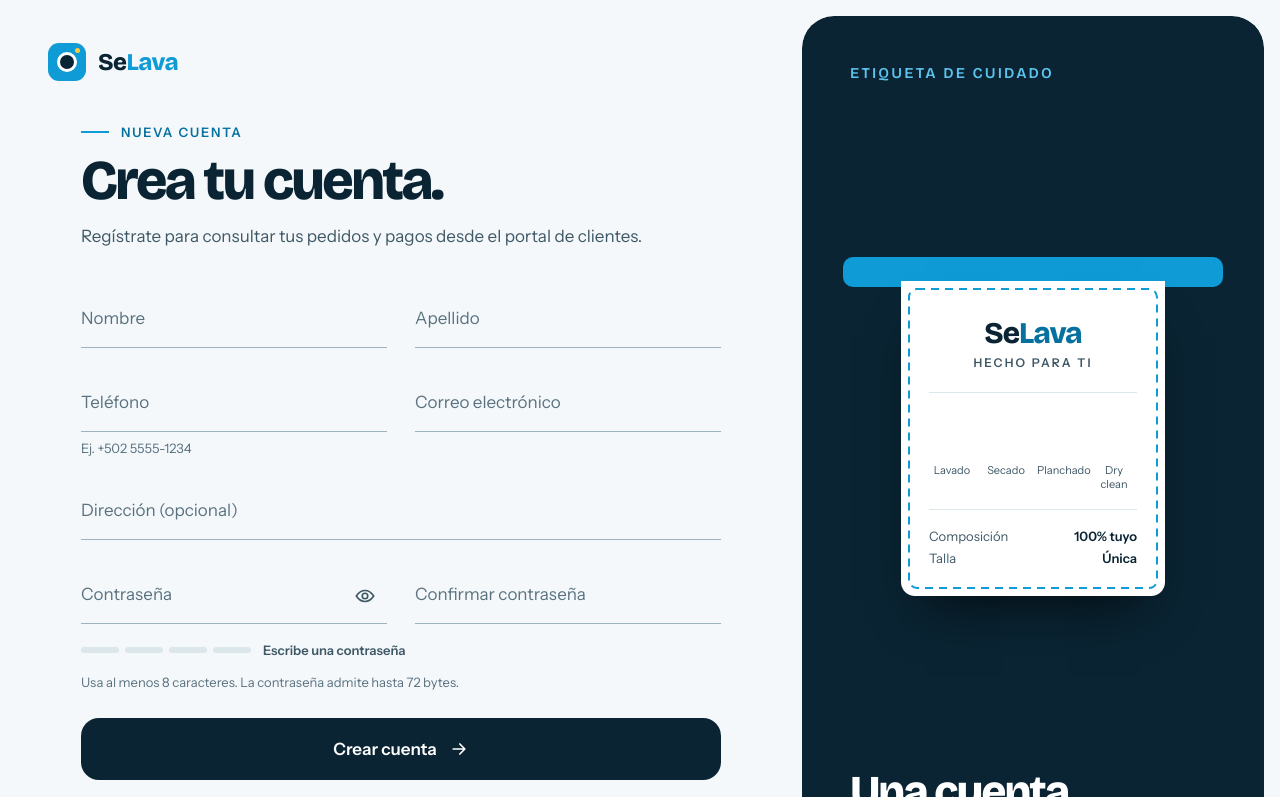
Scenario: autenticación de clientes › muestra los errores de duplicado devueltos por el backend
The width and height of the screenshot is (1280, 797).
Step 1. Type "Ana" into the field labelled "Nombre" → (234, 317), box x1=81 y1=286 x2=387 y2=348
Step 2. Type "López" into the field labelled "Apellido" → (568, 317), box x1=415 y1=286 x2=721 y2=348
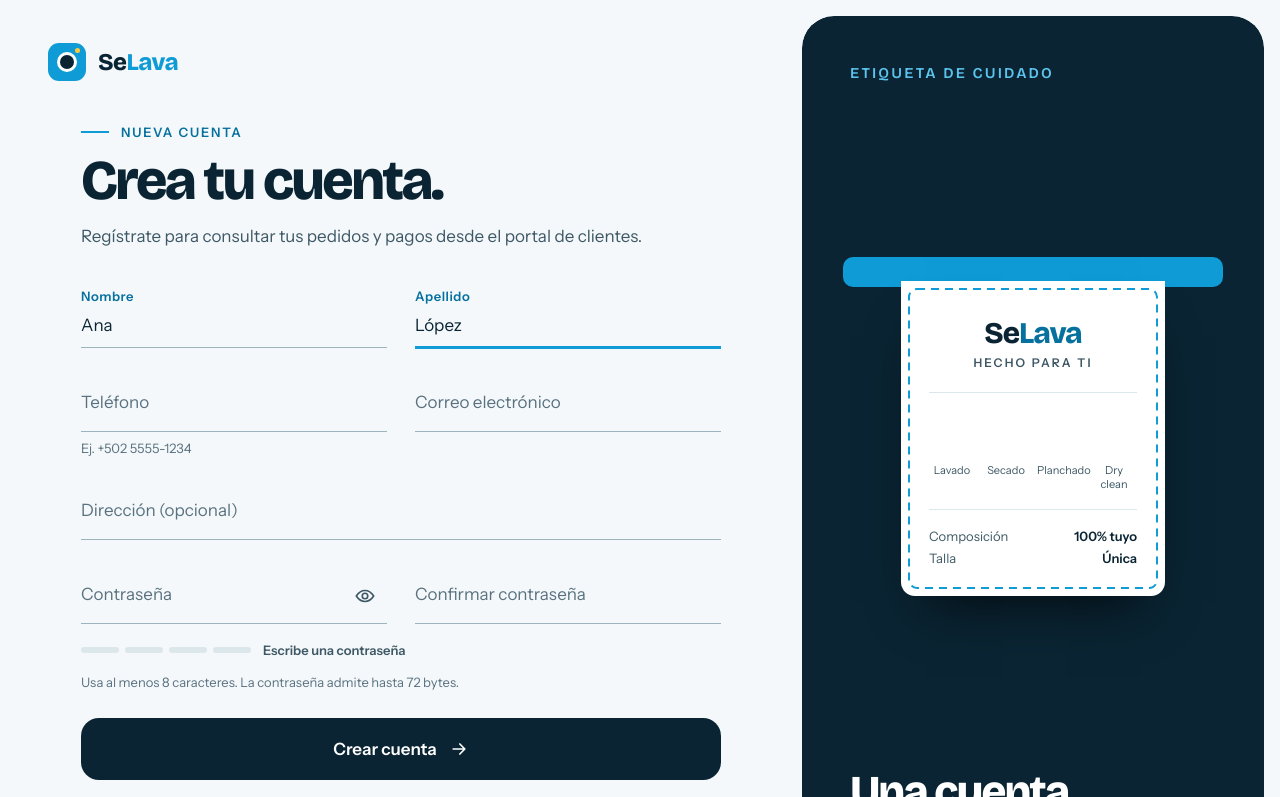
Step 3. Type "5555-1234" into the field labelled "Teléfono" → (234, 401), box x1=81 y1=370 x2=387 y2=432
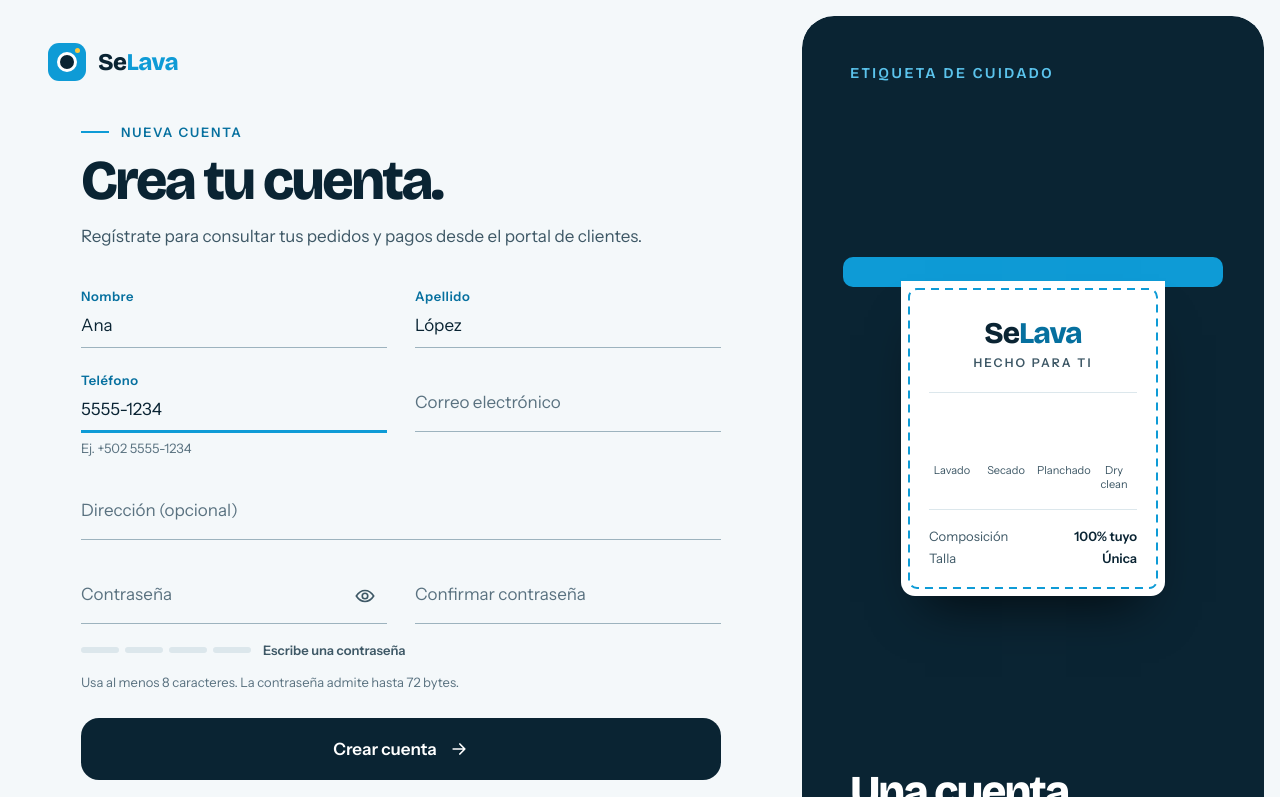
Step 4. Type "ana@example.com" into the field labelled "Correo electrónico" → (568, 401), box x1=415 y1=370 x2=721 y2=432
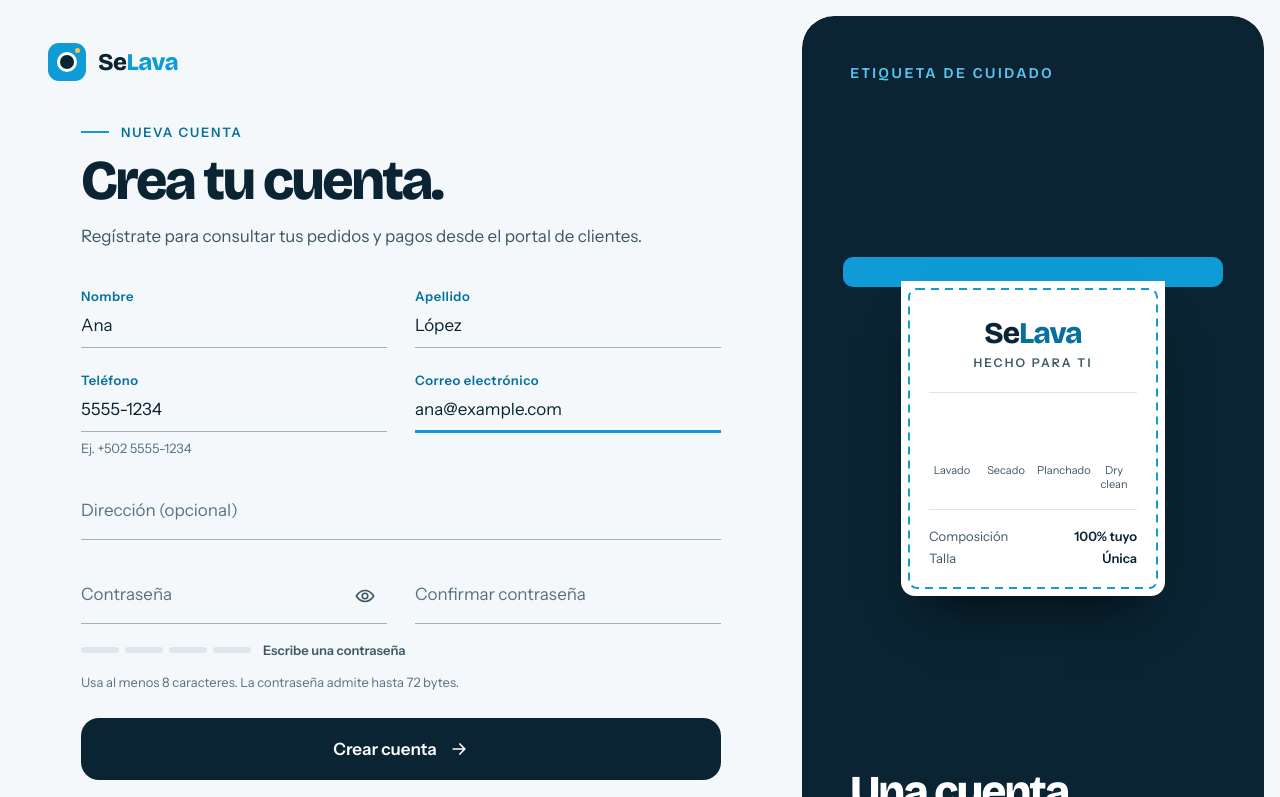
Step 5. Type "secreto-seguro" into the password field labelled "Contraseña" → (234, 593), box x1=81 y1=562 x2=387 y2=624
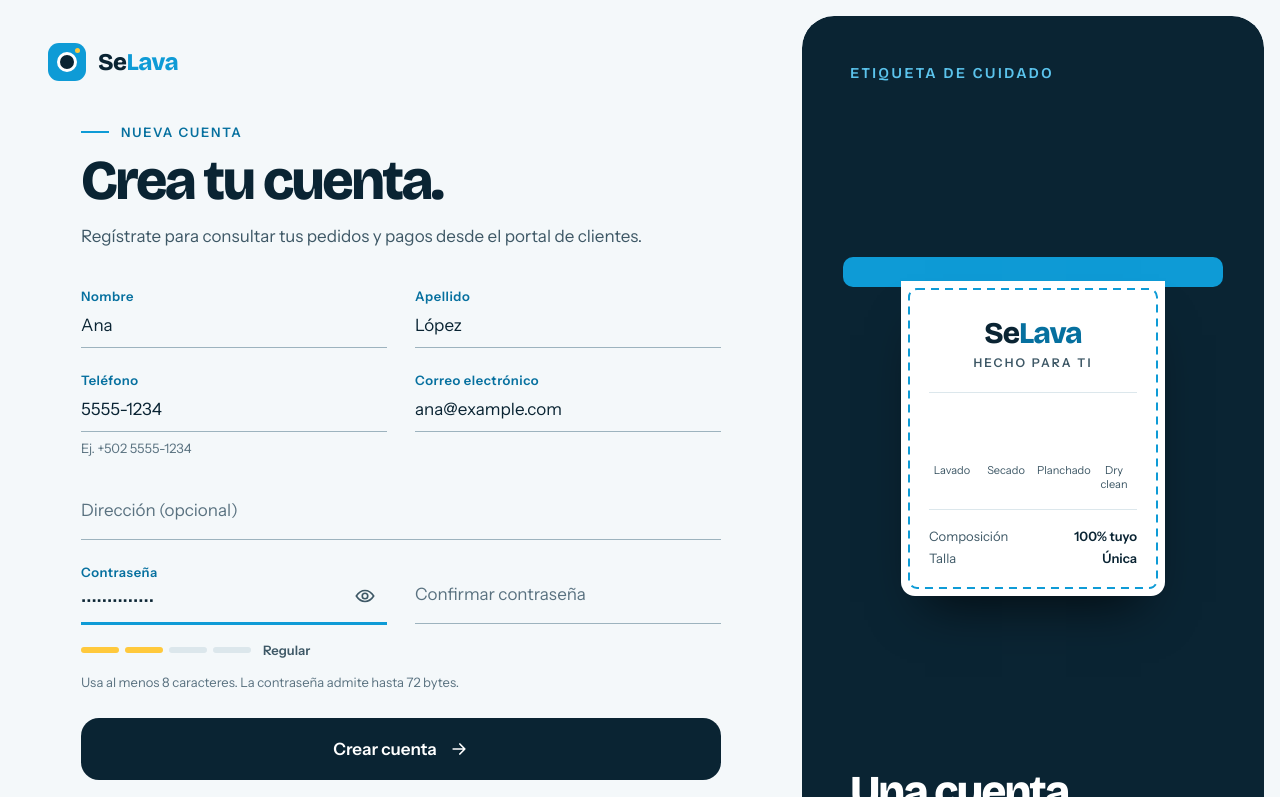
Step 6. Type "secreto-seguro" into the password field labelled "Confirmar contraseña" → (568, 593), box x1=415 y1=562 x2=721 y2=624
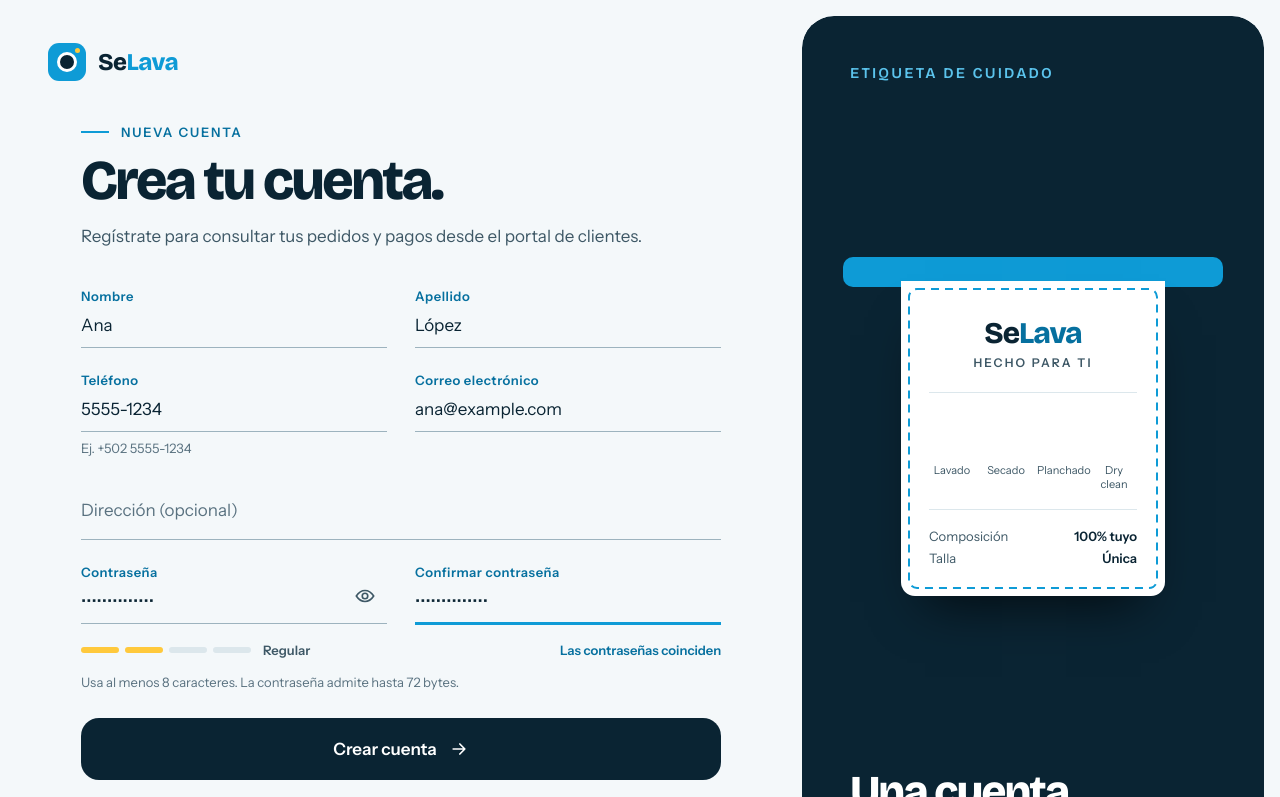
Step 7. Click the button "Crear cuenta" → click(401, 749), box x1=81 y1=718 x2=721 y2=780
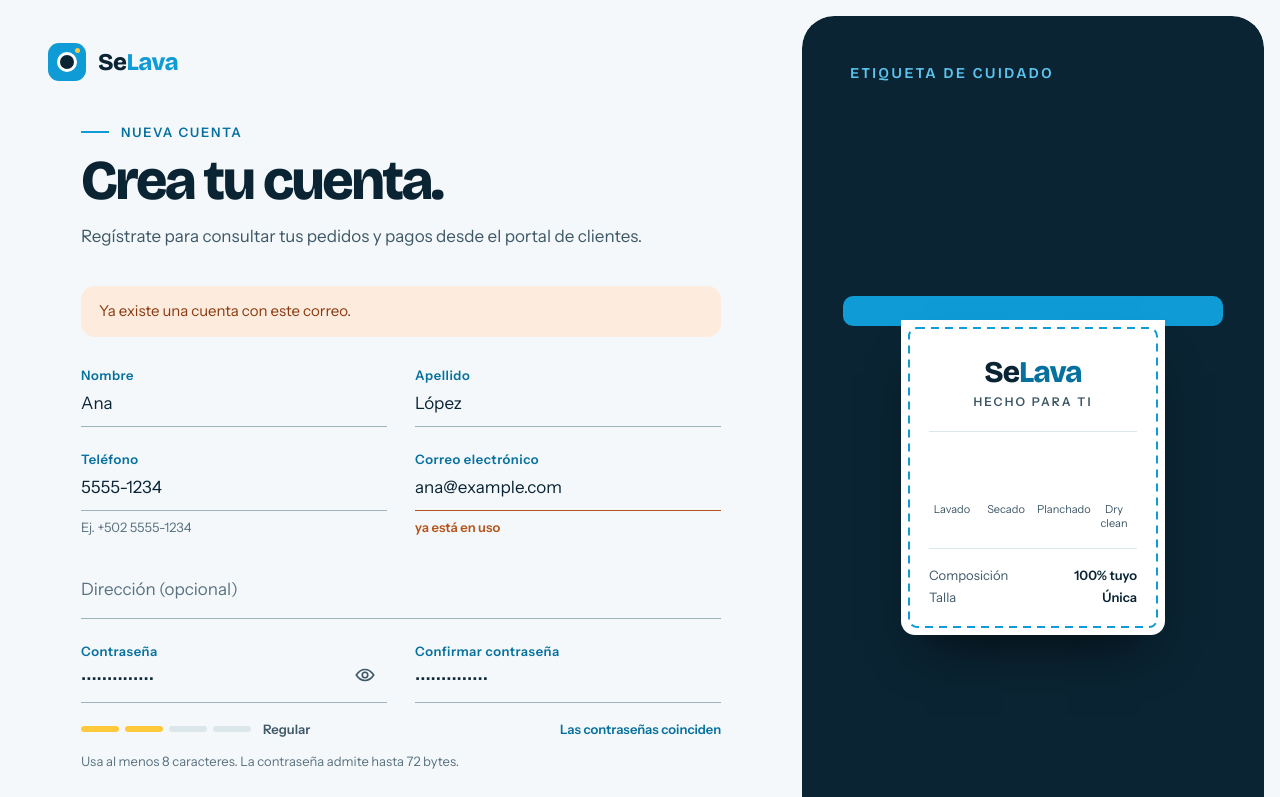
expect the message reads "Ya existe una cuenta con este correo.": met, box x1=99 y1=301 x2=351 y2=320
expect the text "ya está en uso" is shown: met, box x1=415 y1=519 x2=500 y2=535
